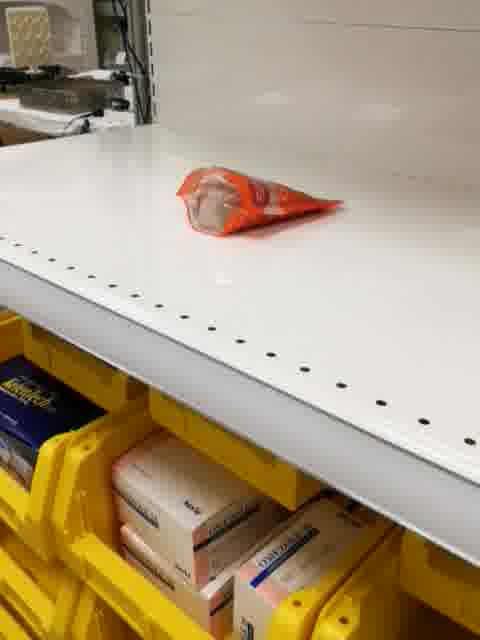whitechia: (174, 163, 348, 238)
